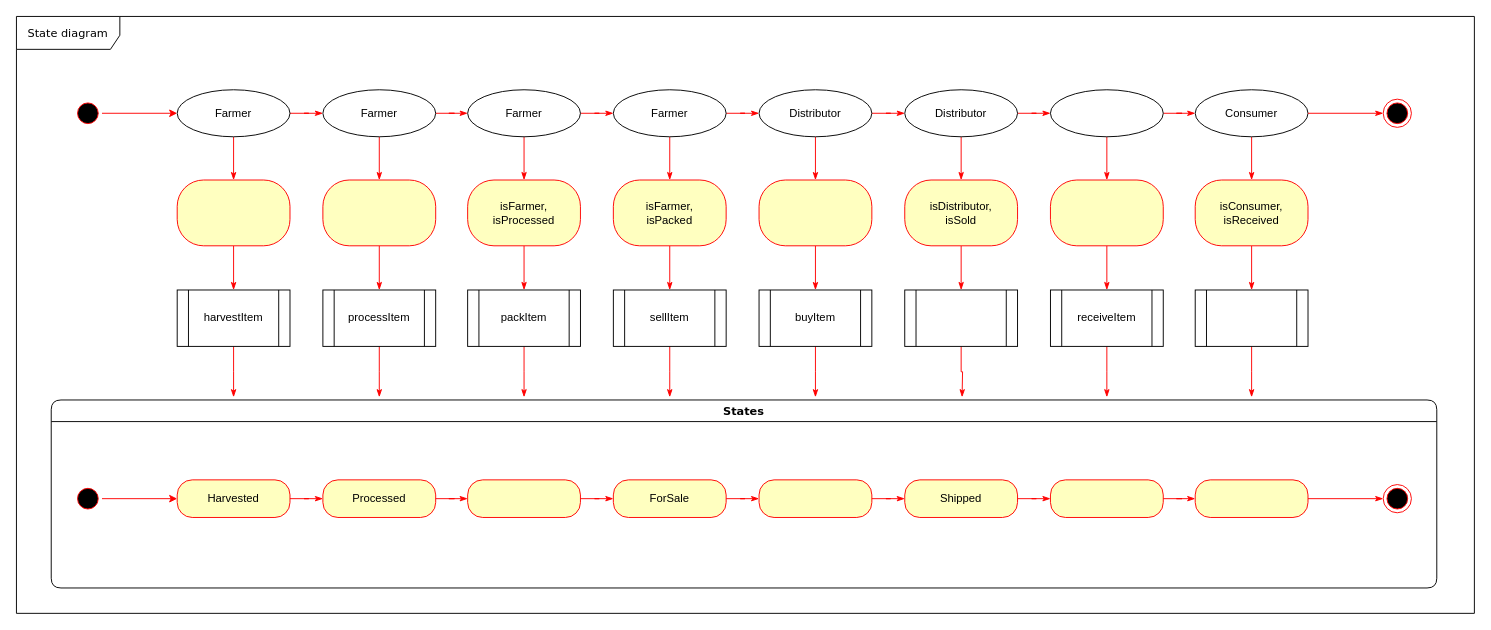
Image size: 1491x630. Some labels were removed from this diagram. Each missing label, with the box of its shape:
isDistributor, isForSale, isPaidEnough, isCheckValue: (758, 179, 872, 246)
isFarmer, isHarvested: (322, 179, 436, 246)
isRetailer, isShipped: (1050, 179, 1163, 246)
isSeller: (176, 179, 290, 246)
Packed: (467, 479, 580, 517)
Purchased: (1194, 479, 1308, 517)
purchaseItem: (1194, 289, 1308, 346)
Received: (1050, 479, 1163, 517)
Retailer: (1050, 89, 1163, 137)
shipItem: (904, 289, 1018, 346)
Sold: (758, 479, 872, 517)
